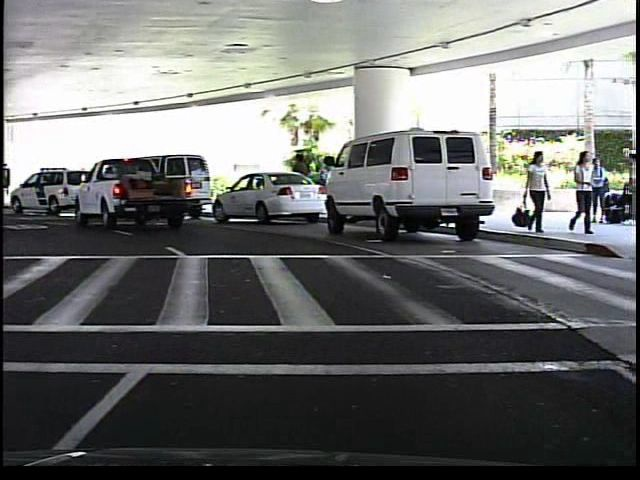person: (521, 145, 552, 233), (570, 149, 599, 237), (290, 151, 314, 213), (593, 155, 613, 227)
